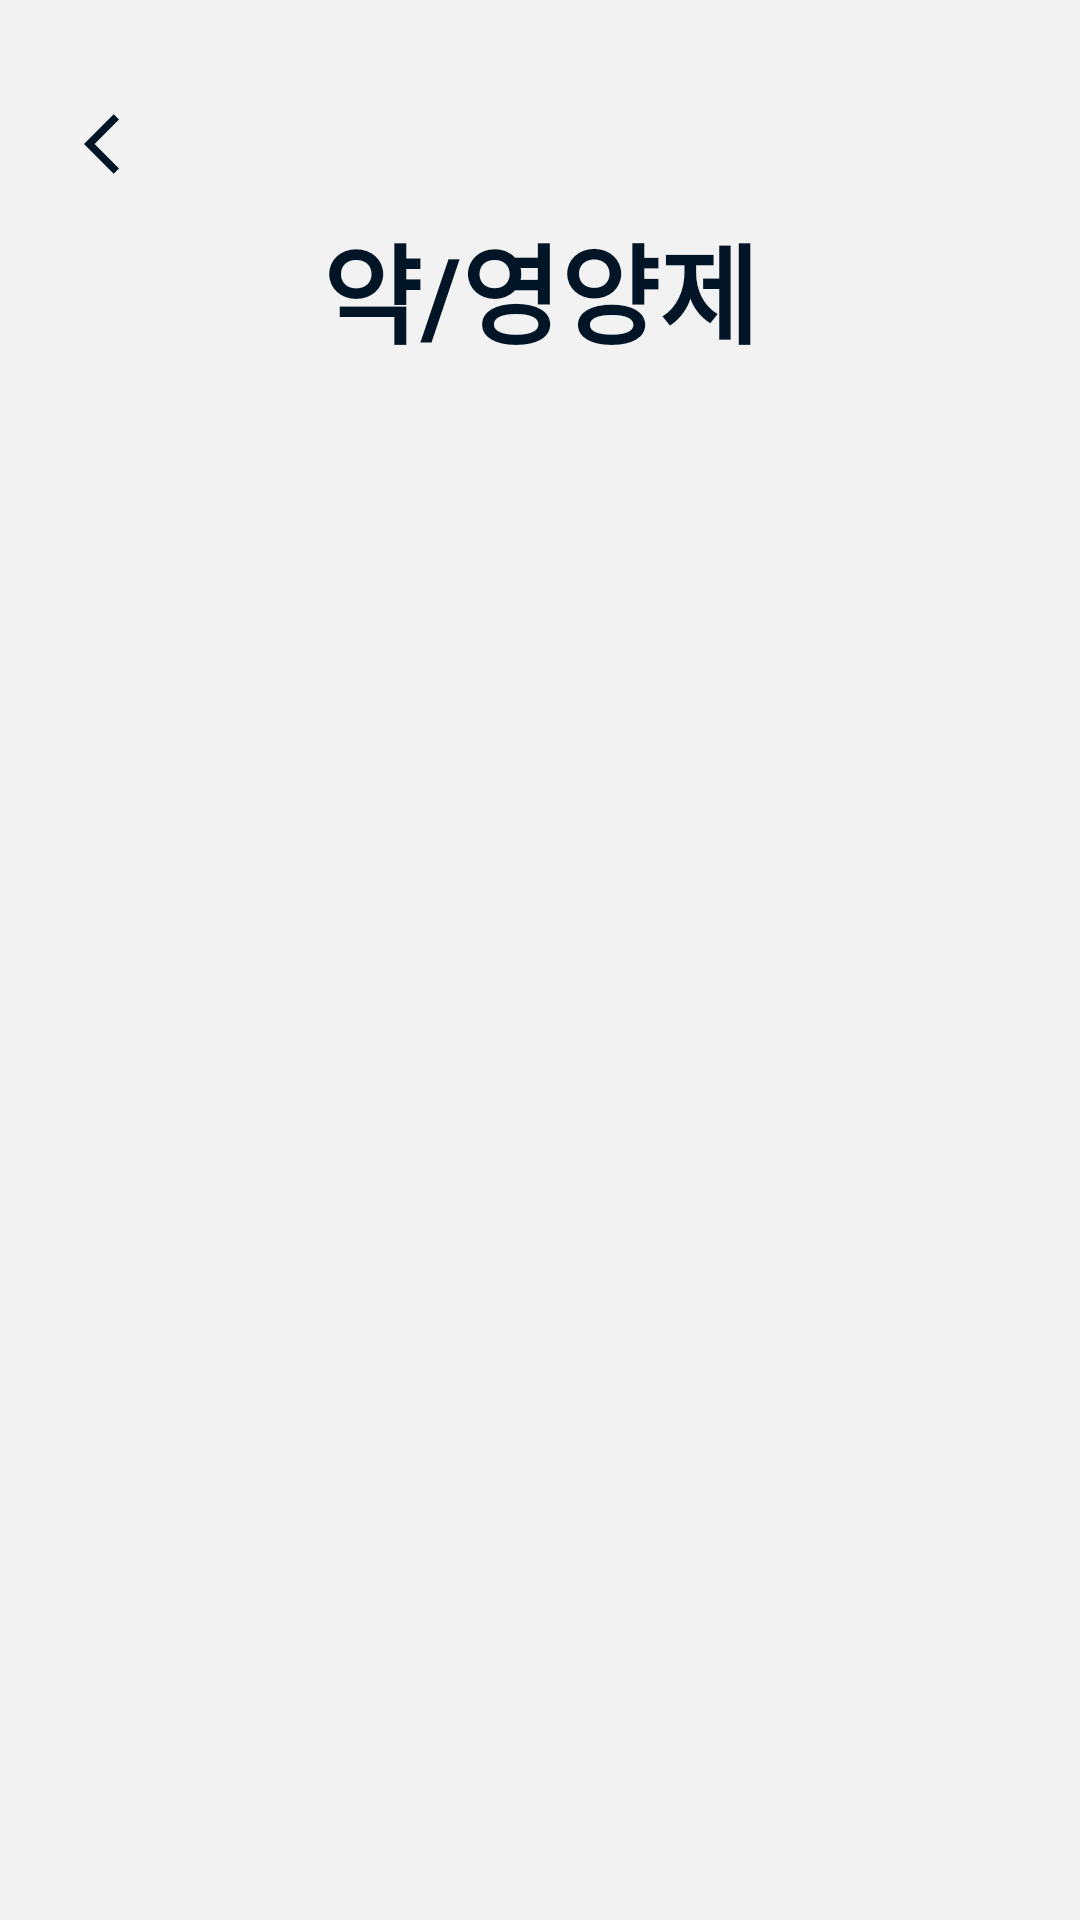

Named icons in this screenshot (1080px×1920px) and their centers, [x,y]:
arrow back: [101,144]
